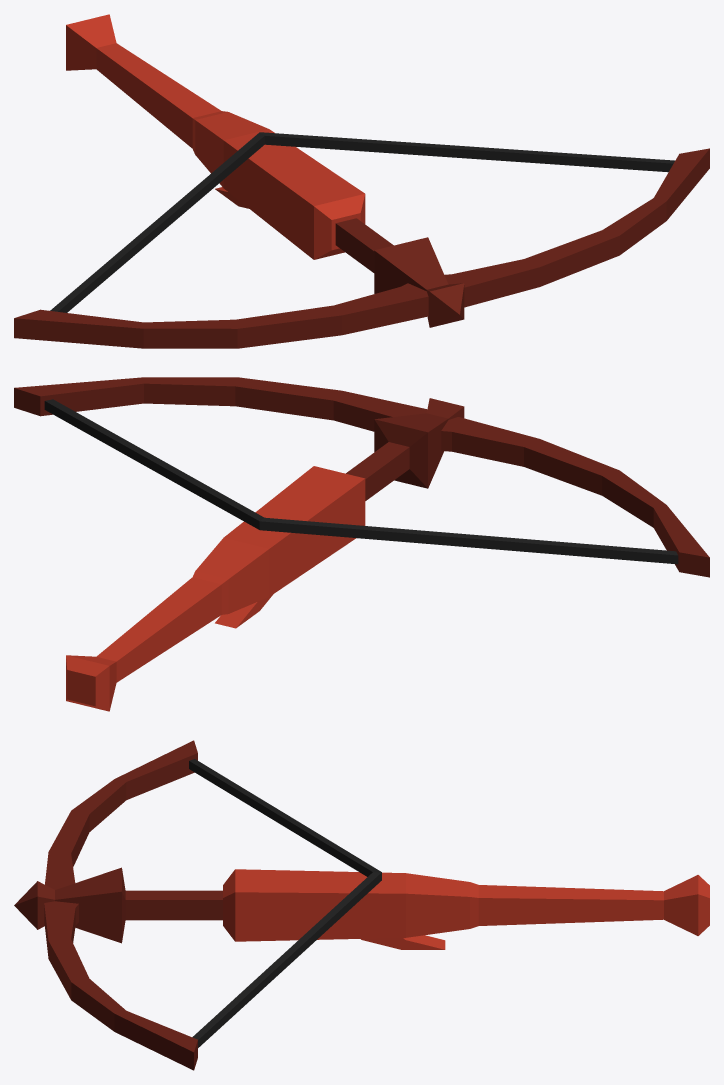
The model's file is Crossbow_4_Red.fbx.
The picture shows the model from 3 angles, top to bottom: view 1: azimuth 30°, elevation 25°; view 2: azimuth 150°, elevation 25°; view 3: azimuth 270°, elevation 25°; orthographic projection. The views are drawn at different scales.
Visible parts, largest first — view 1: Crossbow_4_Red_Mat_2, Crossbow_4_Red_Mat_1, Crossbow_4_Red_Mat_3; view 2: Crossbow_4_Red_Mat_2, Crossbow_4_Red_Mat_1, Crossbow_4_Red_Mat_3; view 3: Crossbow_4_Red_Mat_1, Crossbow_4_Red_Mat_2, Crossbow_4_Red_Mat_3.
Boxes of the visible parts, box(x1,y1,x2,y2) form: Crossbow_4_Red_Mat_2: box(14, 148, 709, 348); Crossbow_4_Red_Mat_1: box(66, 14, 365, 259); Crossbow_4_Red_Mat_3: box(50, 132, 674, 312); Crossbow_4_Red_Mat_2: box(14, 377, 709, 577); Crossbow_4_Red_Mat_1: box(66, 466, 365, 711); Crossbow_4_Red_Mat_3: box(44, 399, 678, 564); Crossbow_4_Red_Mat_1: box(223, 869, 709, 949); Crossbow_4_Red_Mat_2: box(14, 740, 222, 1070); Crossbow_4_Red_Mat_3: box(189, 759, 381, 1047).
Size of the model in its own units: 106 by 11.57 by 100.
